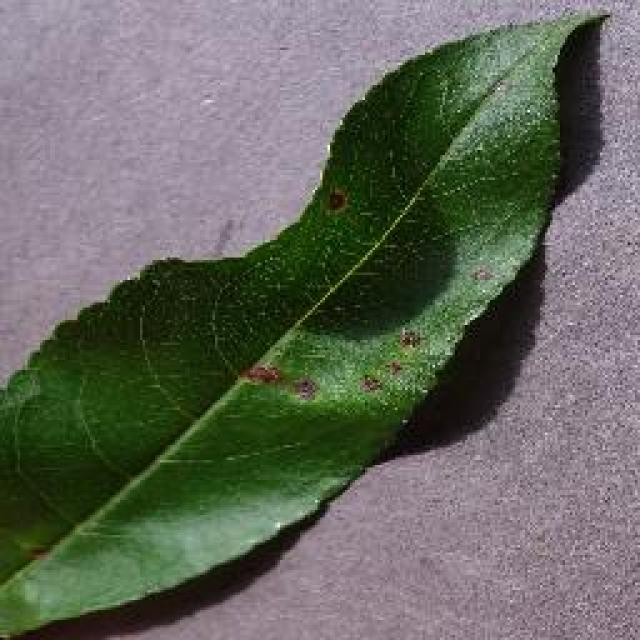Peach_Bacterial_Spot: (283, 162, 505, 435)
